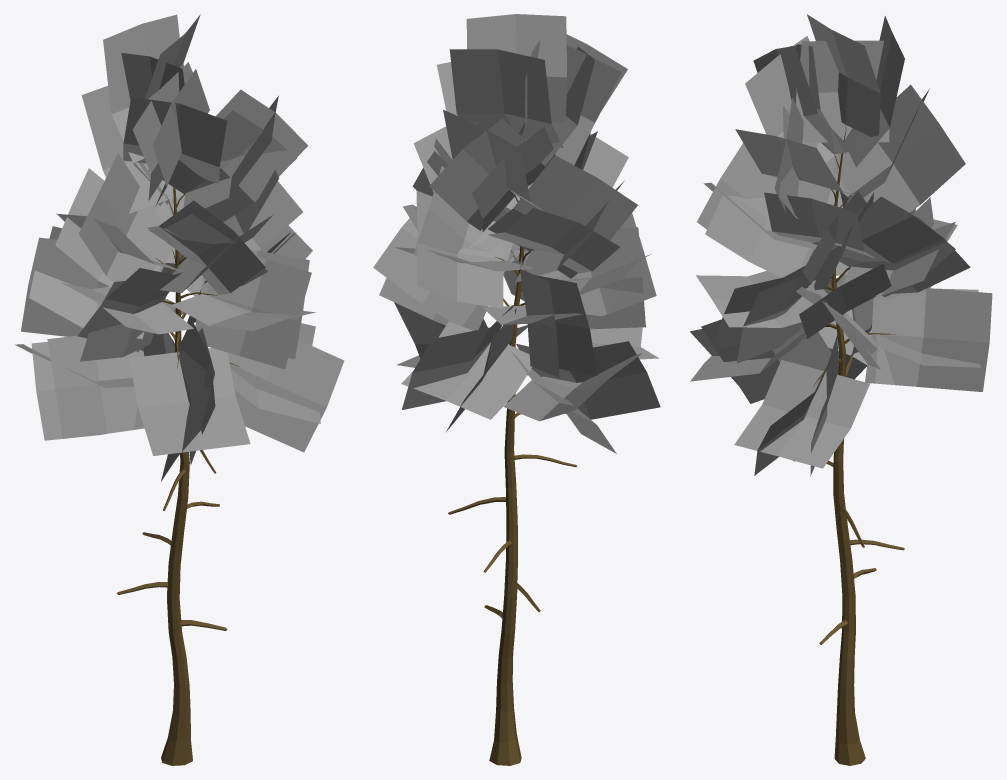
File: Tree_Fay_Blue4.fbx
3 renders of one model, left to right at view 1: azimuth 30°, elevation 25°; view 2: azimuth 150°, elevation 25°; view 3: azimuth 270°, elevation 25°, orthographic.
Parts seen in each view (by area): view 1: Mesh; view 2: Mesh; view 3: Mesh.
Part boxes in pixels (left/top/right/bottom): Mesh: left=15, top=14, right=344, bottom=765; Mesh: left=373, top=14, right=660, bottom=765; Mesh: left=690, top=14, right=992, bottom=765.
Size of the model in its own units: 1689 by 4442 by 1675.
